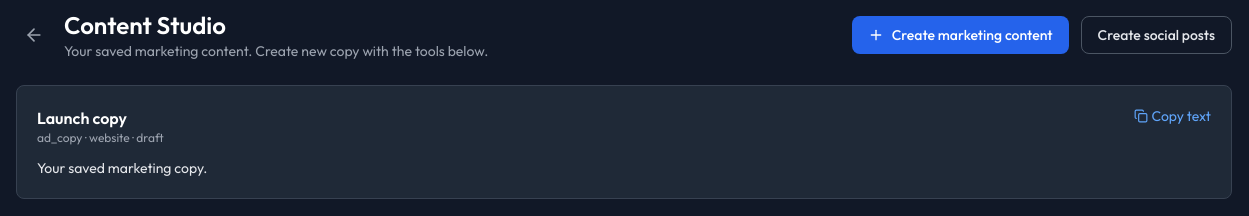
Scenario: Content Studio saved library › copies saved text and confirms only after the clipboard succeeds
Click the button "Copy text" at (1172, 116), box [1134,106,1211,126]
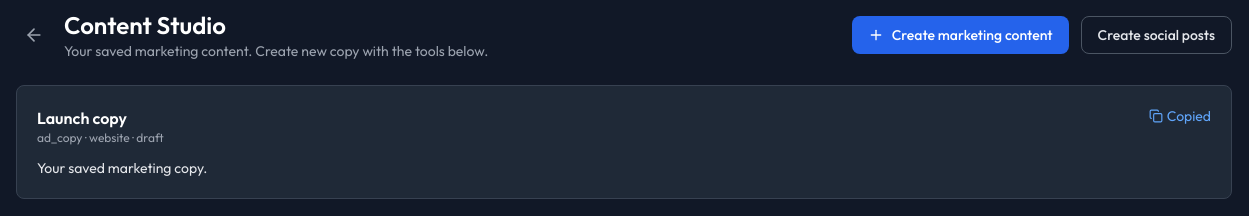
Expected: the button "Copied" is shown, [1149,106,1211,126]
